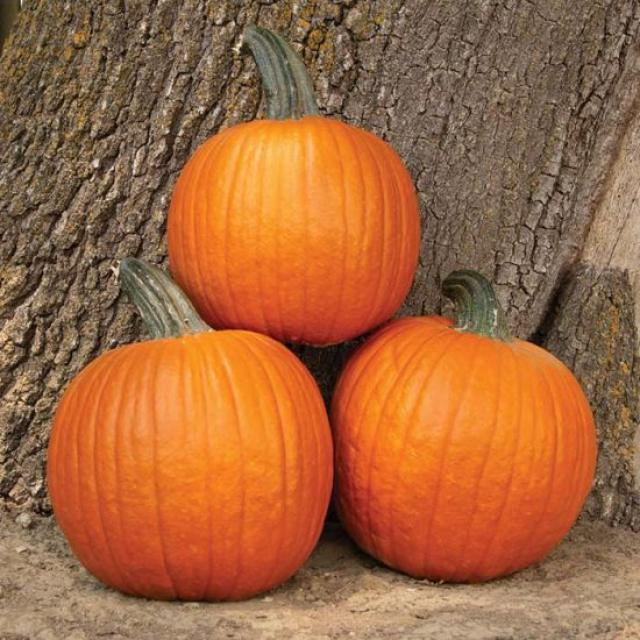pumpkin: (47, 257, 333, 599), (331, 270, 596, 582), (169, 26, 419, 344)
